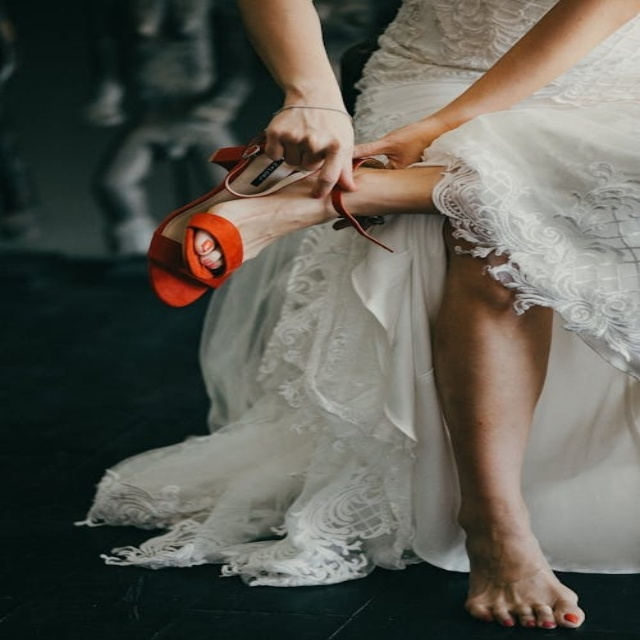Sin_guantes: (254, 100, 358, 203), (353, 112, 448, 171)
